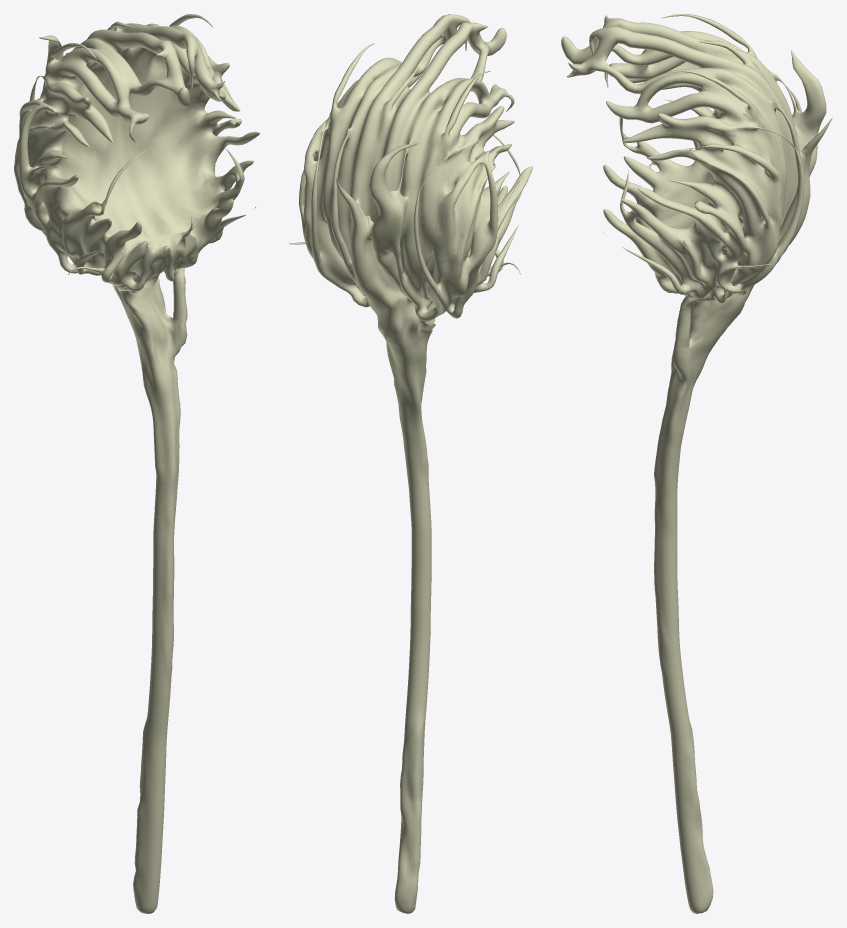
The model's file is fruit1_2_UV.fbx.
The picture shows the model from 3 angles, left to right: view 1: azimuth 30°, elevation 25°; view 2: azimuth 150°, elevation 25°; view 3: azimuth 270°, elevation 25°; orthographic projection. The views are drawn at different scales.
Visible parts, largest first — view 1: fruit1_0; view 2: fruit1_0; view 3: fruit1_0.
Part boxes in pixels (bbox=[...]): fruit1_0: bbox=[14, 14, 259, 913]; fruit1_0: bbox=[288, 14, 532, 913]; fruit1_0: bbox=[561, 14, 832, 913].
Bounding box in the file's own units: 24.65 × 103 × 28.76.
